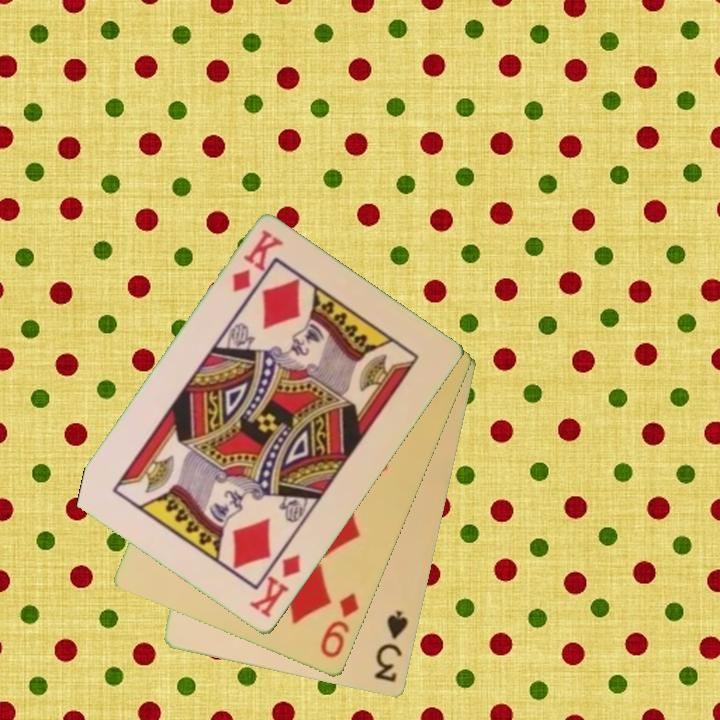3s: (371, 607, 411, 686)
9d: (317, 590, 363, 662)
Kd: (246, 551, 304, 622), (228, 227, 286, 296)
